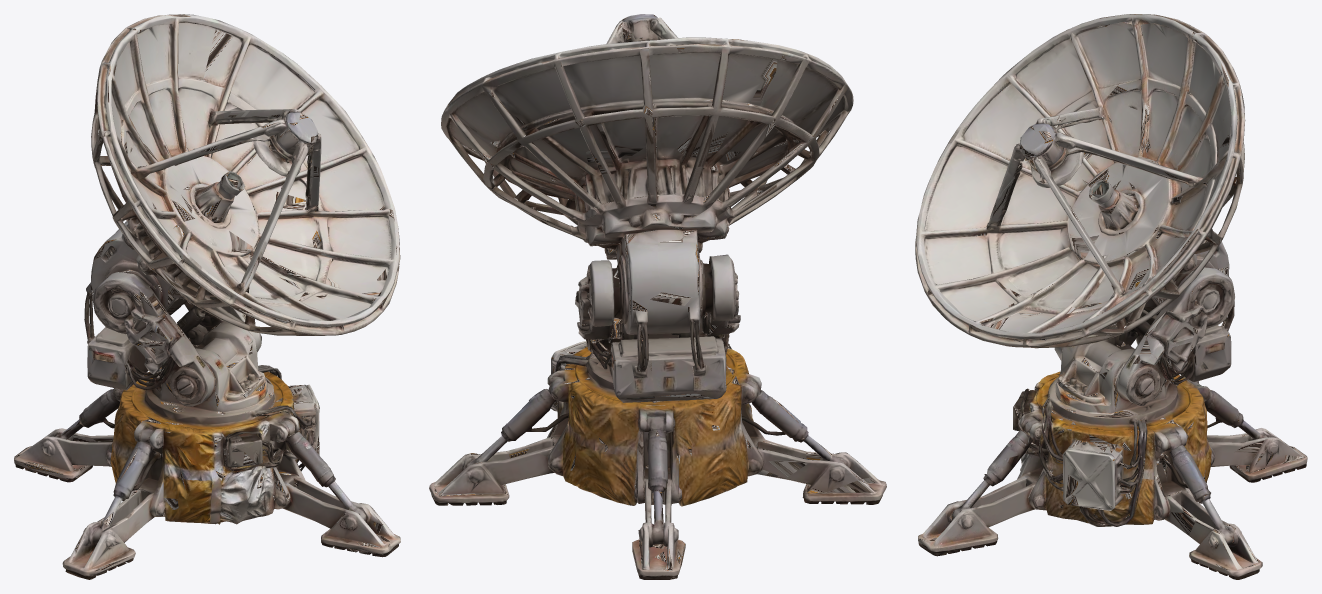
File: antenna.glb
3 views of the same model, side by side, from view 1: azimuth 30°, elevation 25°; view 2: azimuth 150°, elevation 25°; view 3: azimuth 270°, elevation 25° (orthographic). The views are drawn at different scales.
Parts seen in each view (by area): view 1: tripo_node_e05fc78f-97f3-4c9e-a4c9-5a825fee8b5a; view 2: tripo_node_e05fc78f-97f3-4c9e-a4c9-5a825fee8b5a; view 3: tripo_node_e05fc78f-97f3-4c9e-a4c9-5a825fee8b5a.
Boxes of the visible parts, x1=… form: tripo_node_e05fc78f-97f3-4c9e-a4c9-5a825fee8b5a: x1=14, y1=14, x2=400, y2=579; tripo_node_e05fc78f-97f3-4c9e-a4c9-5a825fee8b5a: x1=429, y1=14, x2=886, y2=579; tripo_node_e05fc78f-97f3-4c9e-a4c9-5a825fee8b5a: x1=915, y1=14, x2=1307, y2=579.
Bounding box in the file's own units: 0.8003 × 0.9779 × 0.7605.
1 material, 1 textured.
